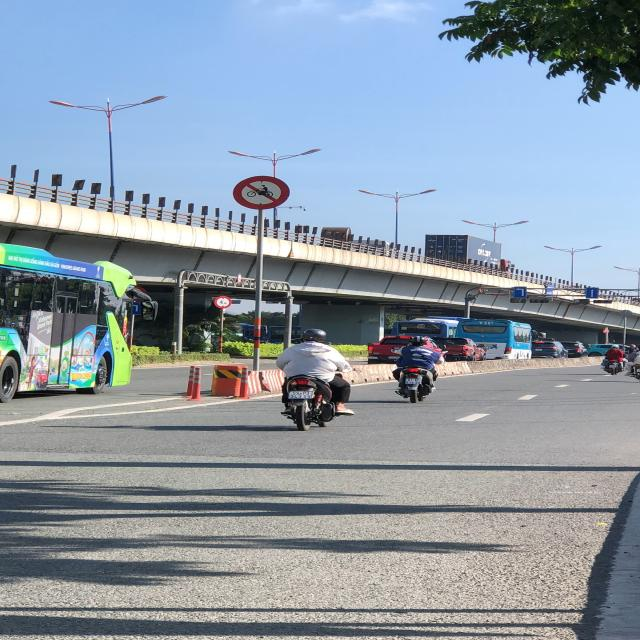Bien bao cam xe may: (232, 173, 292, 210)
